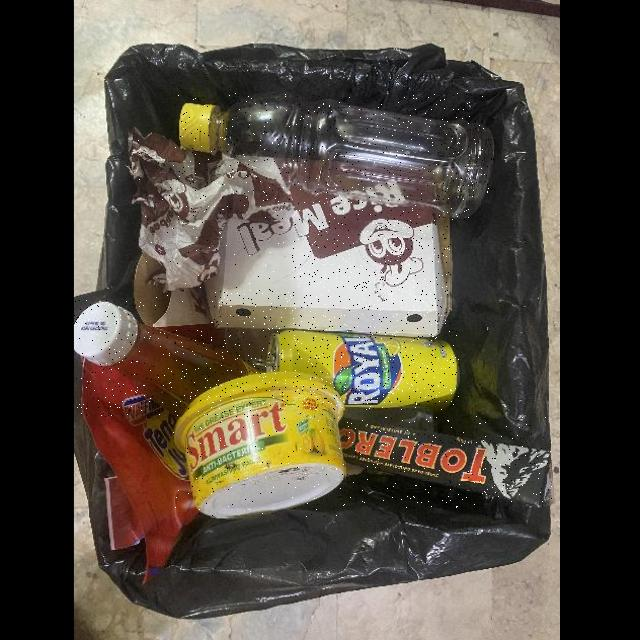glass: (74, 300, 264, 417)
metal: (253, 331, 459, 410)
paper: (203, 161, 451, 338), (129, 128, 292, 289), (339, 416, 552, 508), (134, 253, 210, 327)
plastic: (179, 93, 494, 220), (172, 371, 345, 517)
